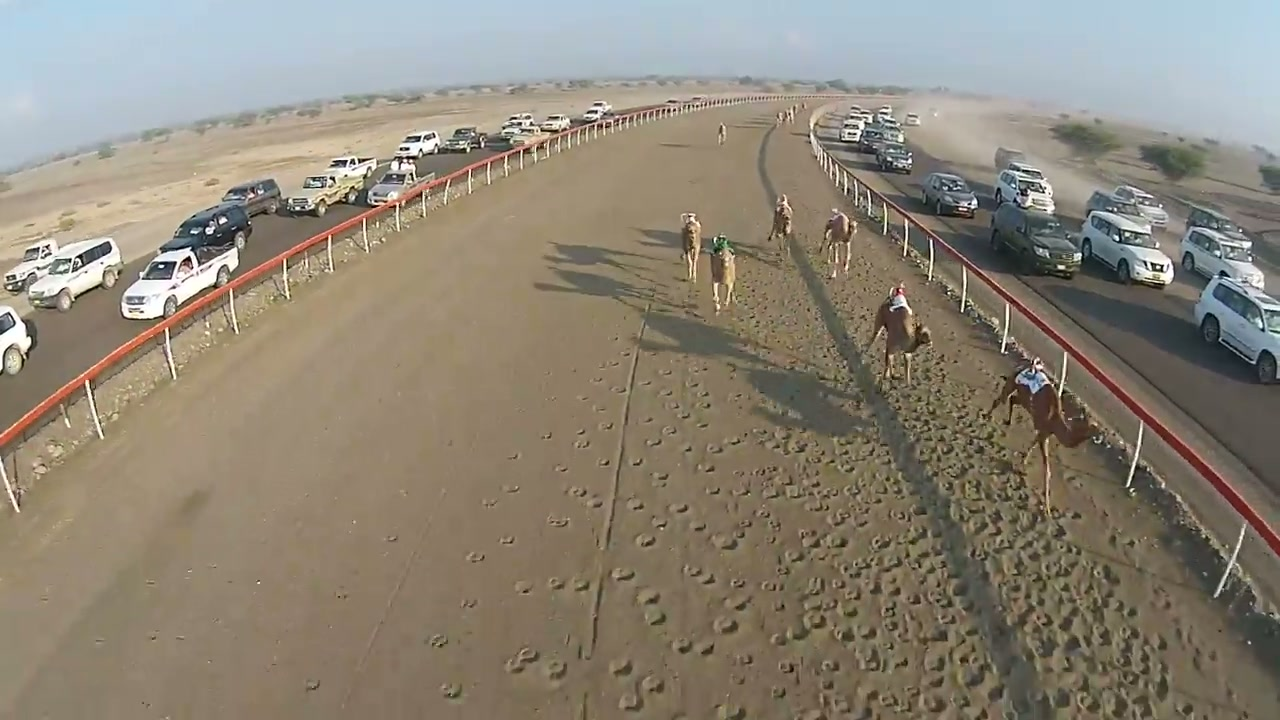animal_foot_print: (715, 380, 1195, 708), (424, 324, 648, 706), (502, 366, 729, 693)
